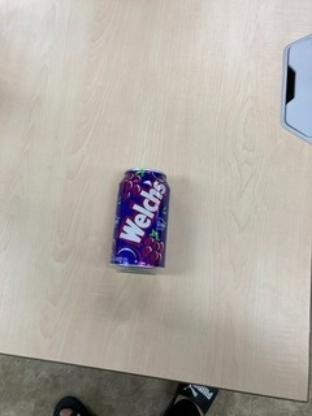Can: (108, 165, 172, 279)
